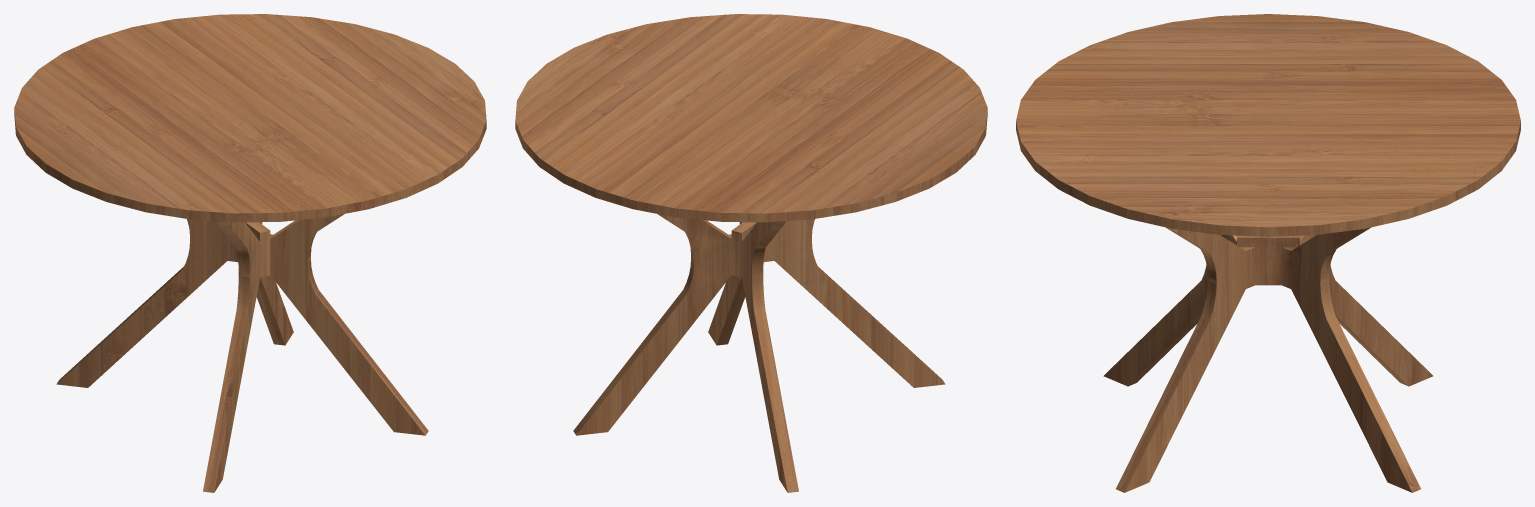
The model's file is MSH_Mesa_Circular.FBX.
3 views of the same model, side by side, from view 1: azimuth 30°, elevation 25°; view 2: azimuth 150°, elevation 25°; view 3: azimuth 270°, elevation 25° (orthographic). The views are drawn at different scales.
Visible parts, largest first — view 1: MSH_Mesa_Circular; view 2: MSH_Mesa_Circular; view 3: MSH_Mesa_Circular.
Boxes of the visible parts, <box> form: MSH_Mesa_Circular: <box>14,14,486,492</box>; MSH_Mesa_Circular: <box>515,14,987,492</box>; MSH_Mesa_Circular: <box>1016,14,1520,492</box>.
Bounding box in the file's own units: 120 × 82.5 × 120.
